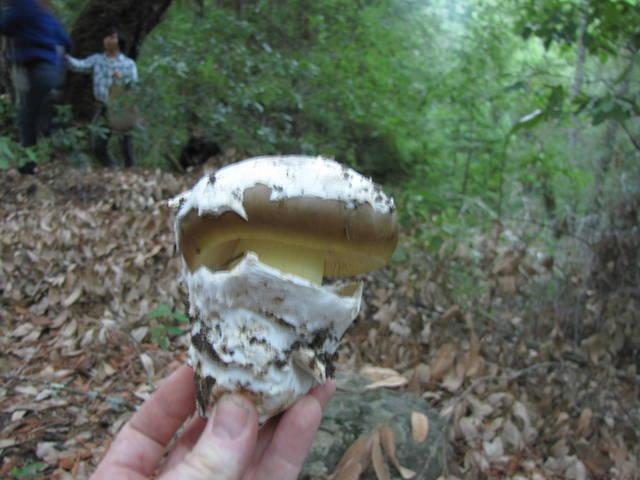edible_mushroom: (166, 151, 400, 426)
